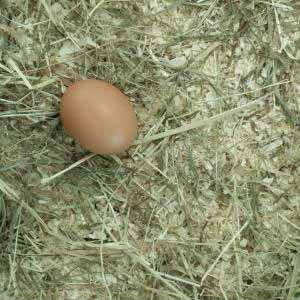egg: (60, 79, 137, 155)
